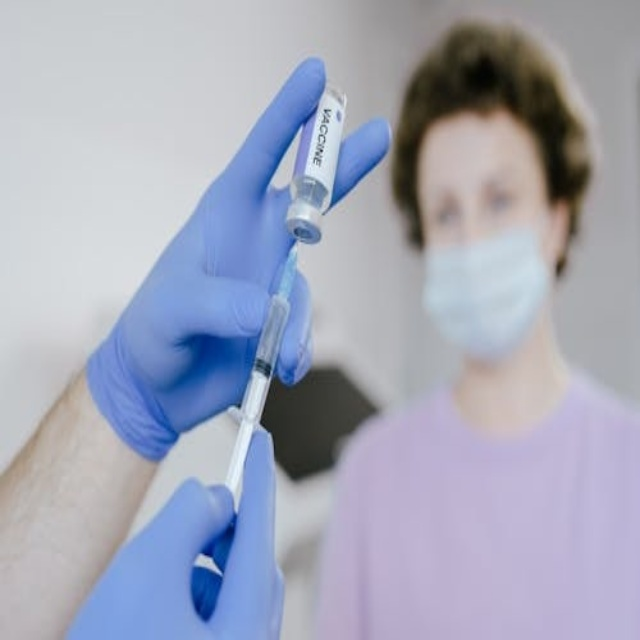Guantes: (91, 51, 386, 462), (57, 424, 289, 640)
Mascara: (419, 225, 551, 360)
Sin_gafas: (421, 158, 539, 233)
